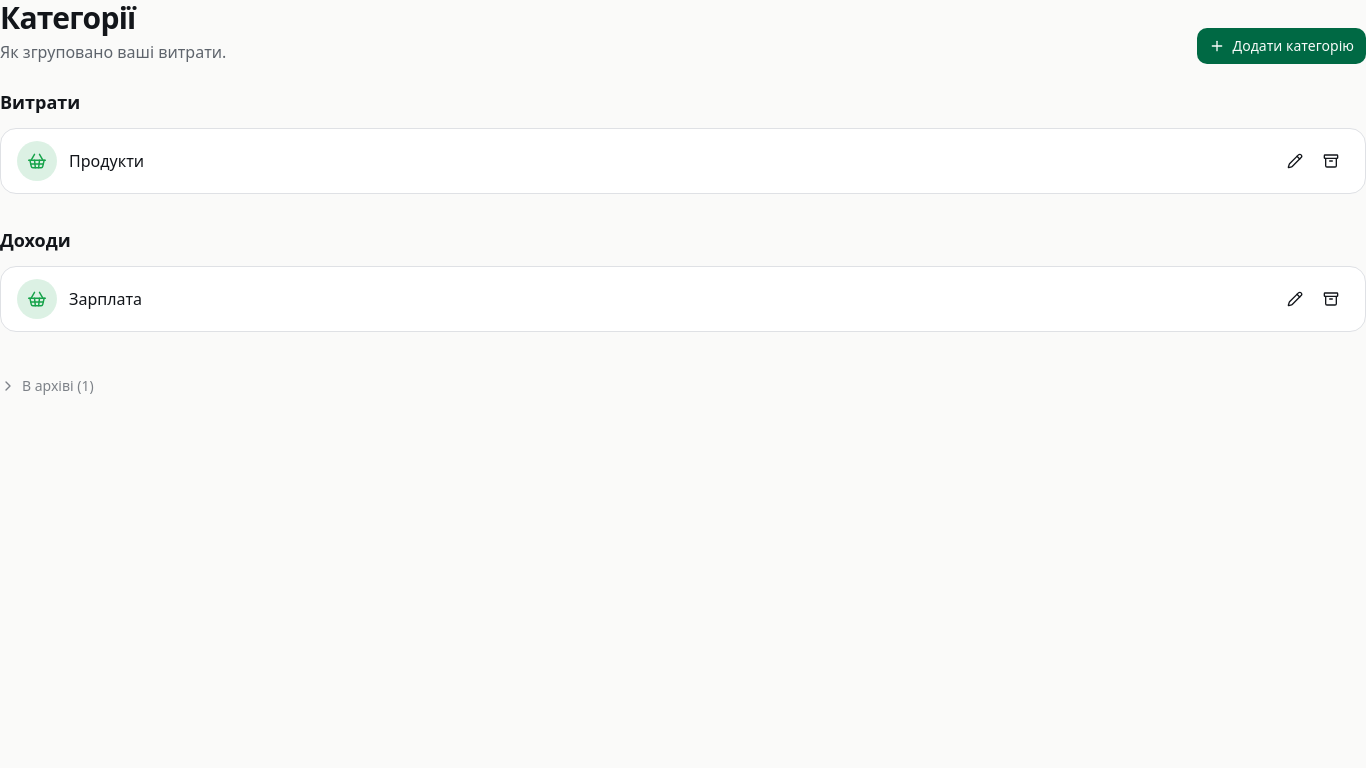
CategoriesPage › compares against the localized name of a default
Click the button "Додати категорію". click: point(1281, 46)
box: [1197,28,1365,64]
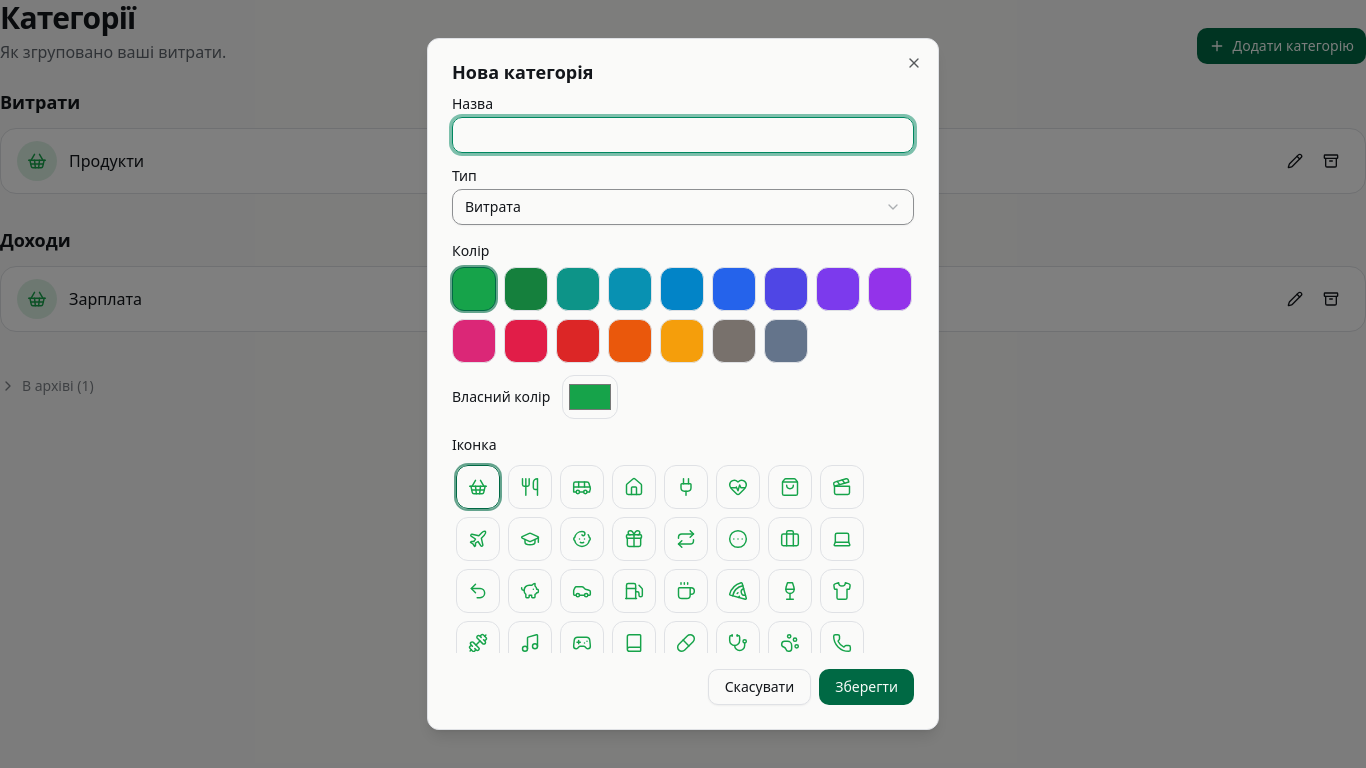
Type "продукти" into the field labelled "Назва". click: point(683, 135)
box: [452,117,914,153]
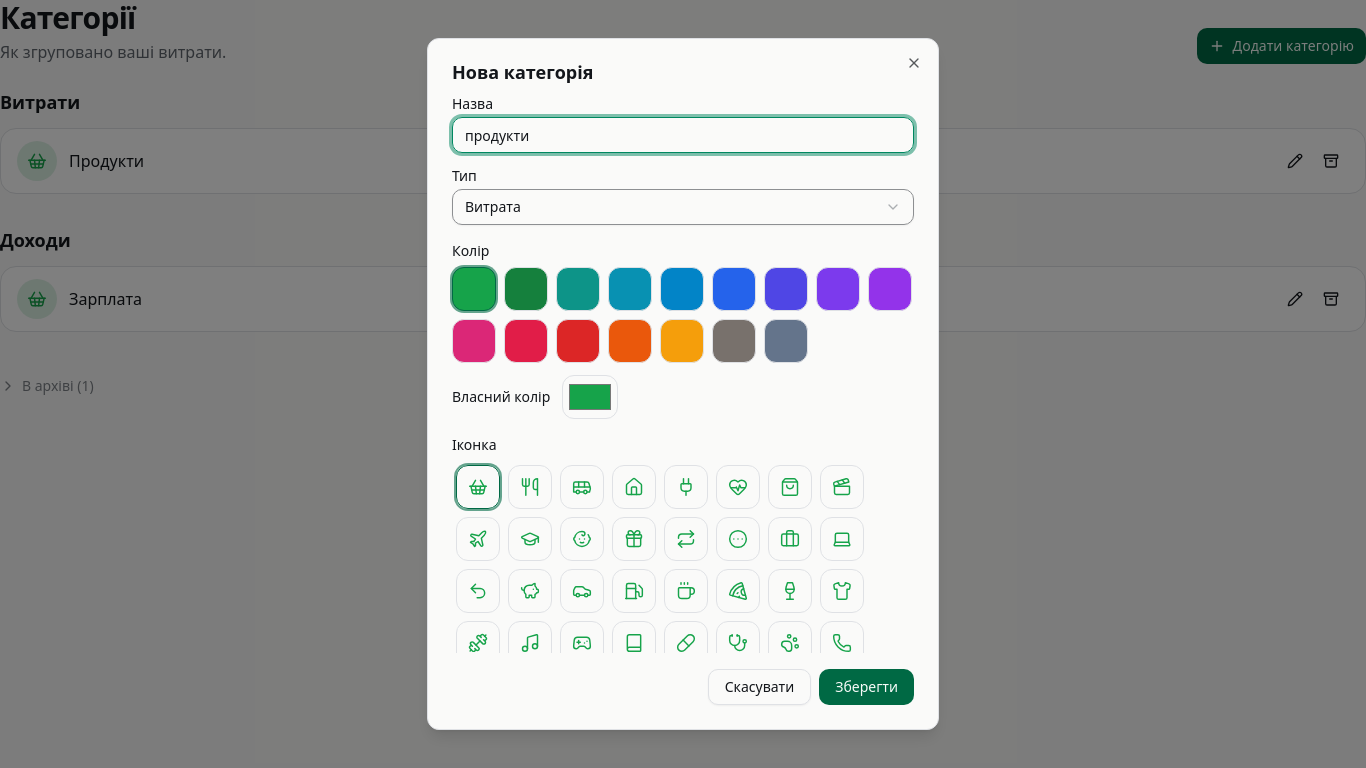
Click the button "Зберегти". click: point(867, 687)
box: [819,669,914,705]
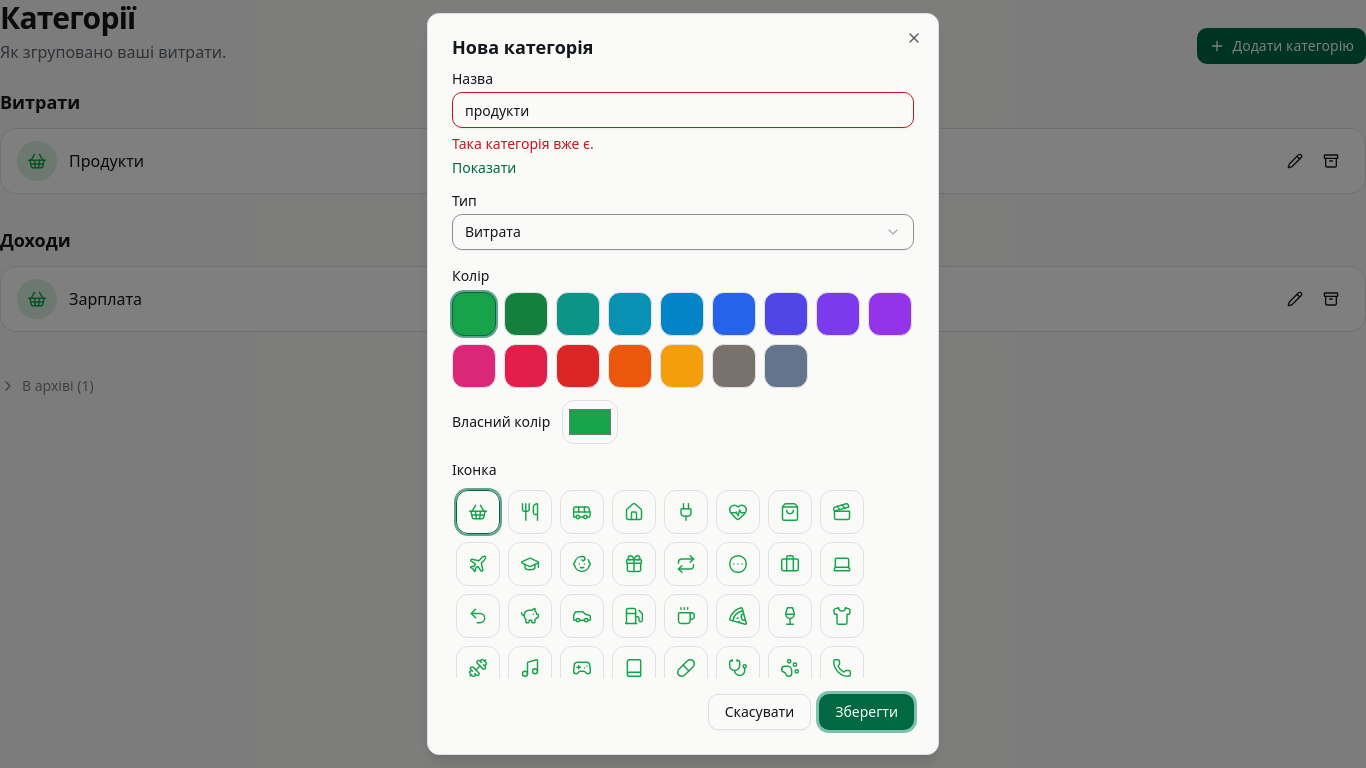
Result: the text "Така категорія вже є." is shown at [452,134,594,153]
